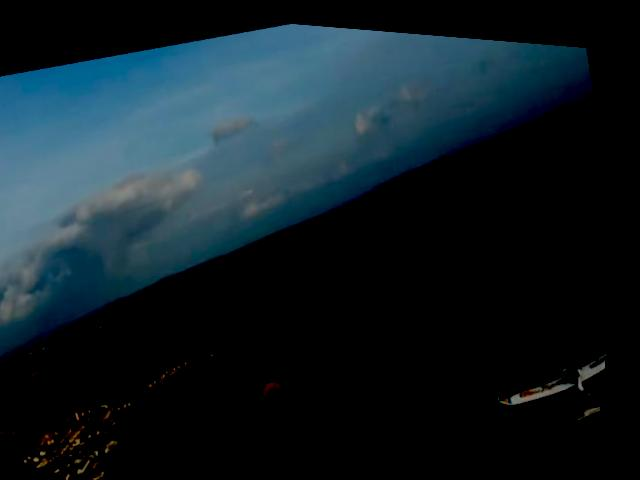iha: (488, 311, 616, 430)
